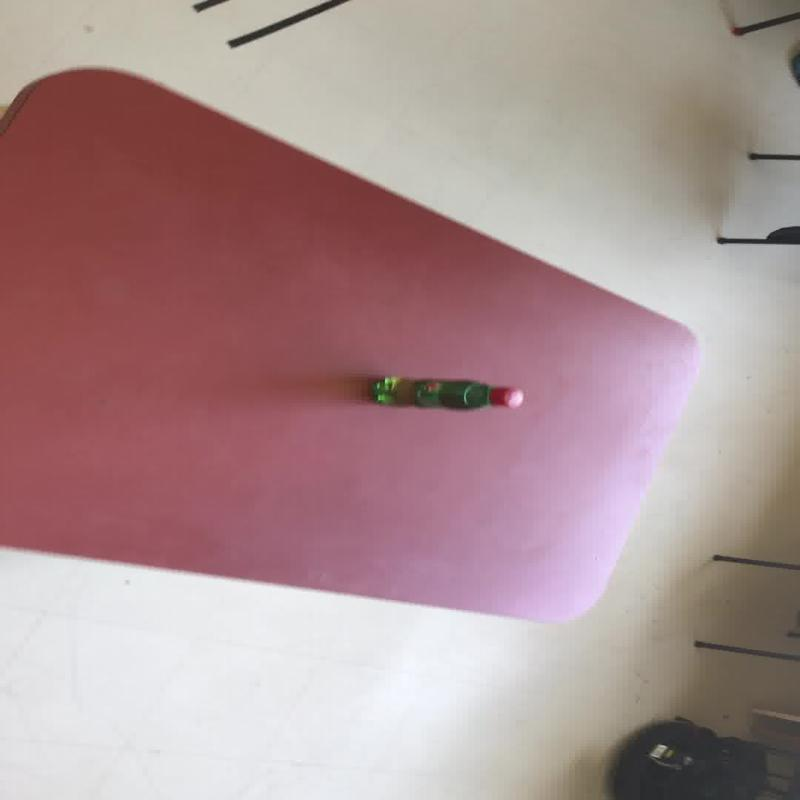guarana: (368, 374, 524, 410)
